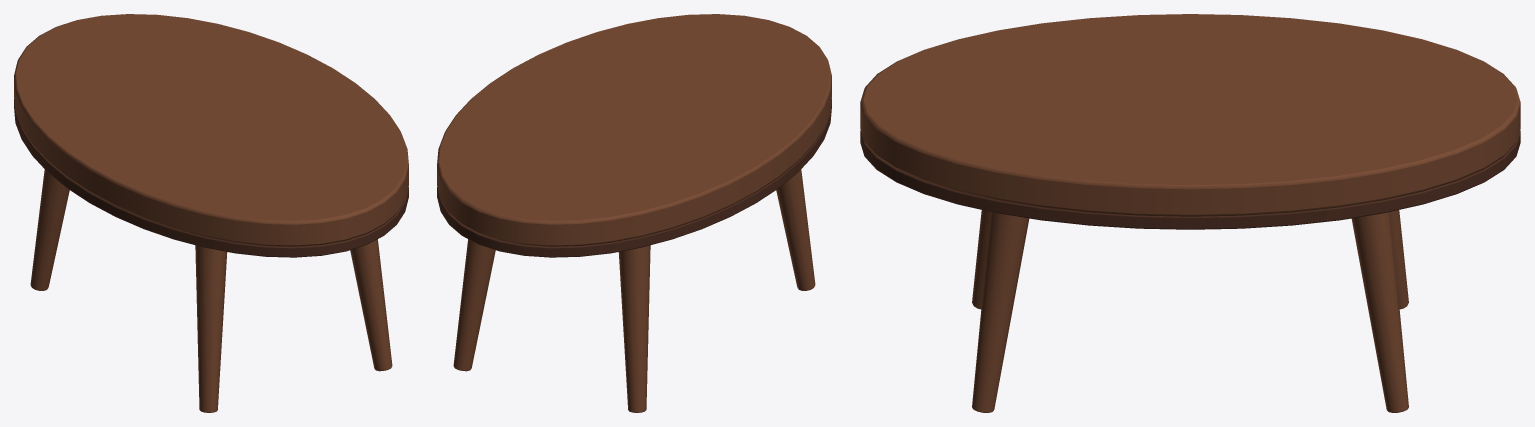
The model's file is oval-table.glb.
The picture shows the model from 3 angles, left to right: view 1: azimuth 30°, elevation 25°; view 2: azimuth 150°, elevation 25°; view 3: azimuth 270°, elevation 25°; orthographic projection. The views are drawn at different scales.
Parts seen in each view (by area): view 1: Oval tabletop, Oval tabletop.001; view 2: Oval tabletop, Oval tabletop.001; view 3: Oval tabletop, Oval tabletop.001.
Boxes of the visible parts, x1=… form: Oval tabletop: x1=14, y1=14, x2=408, y2=412; Oval tabletop.001: x1=14, y1=98, x2=408, y2=257; Oval tabletop: x1=437, y1=14, x2=831, y2=412; Oval tabletop.001: x1=437, y1=98, x2=831, y2=257; Oval tabletop: x1=860, y1=14, x2=1520, y2=412; Oval tabletop.001: x1=860, y1=130, x2=1520, y2=229.
Size of the model in its own units: 0.62 by 0.4325 by 1.
